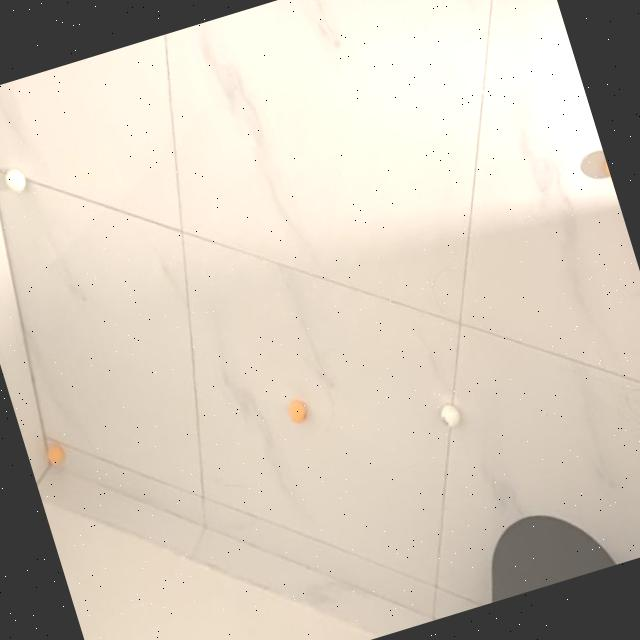ping-pong-ball: (2, 166, 30, 197), (436, 401, 464, 432), (284, 397, 311, 428), (45, 442, 68, 468), (598, 155, 614, 188)
